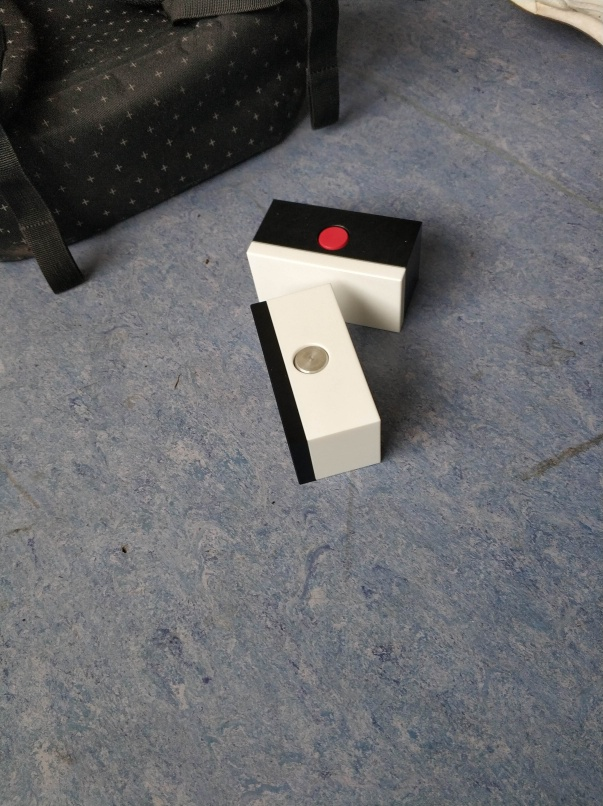black+white+silver: (247, 277, 383, 493)
white+black+red: (244, 196, 426, 335)
